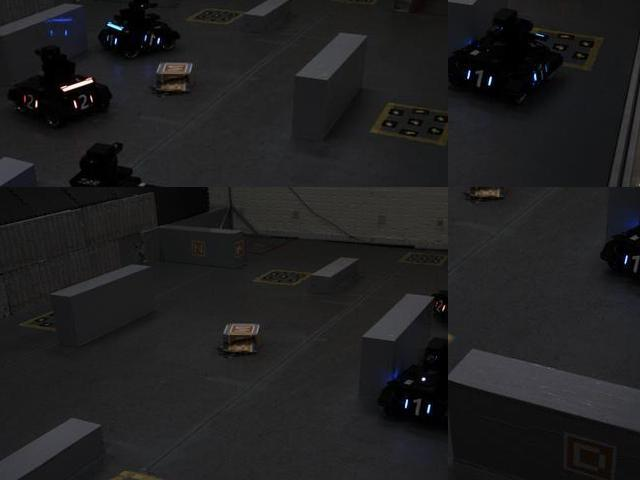armor: (462, 63, 496, 92), (526, 54, 553, 89), (399, 393, 434, 420), (67, 91, 97, 114), (17, 90, 42, 115), (620, 248, 639, 279), (141, 30, 164, 50), (428, 295, 447, 316), (101, 29, 119, 50)
